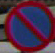No waiting: (6, 1, 50, 48)
